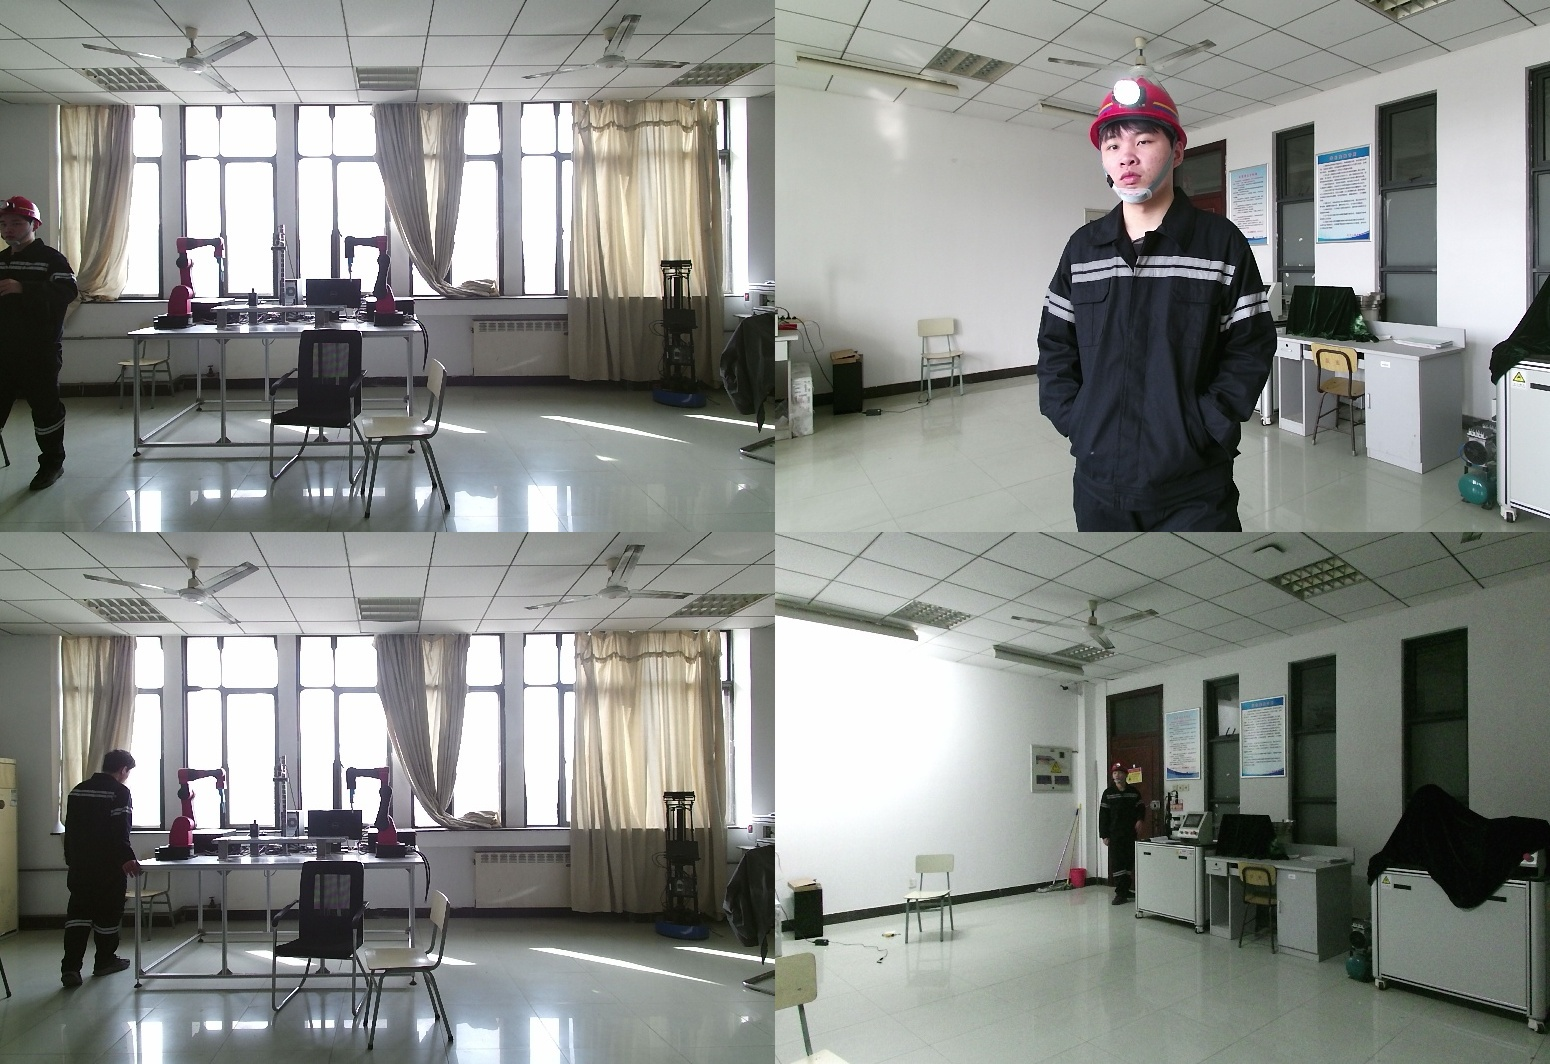person: (1039, 78, 1296, 532), (1, 197, 88, 490), (56, 749, 143, 985), (1096, 760, 1155, 906)
